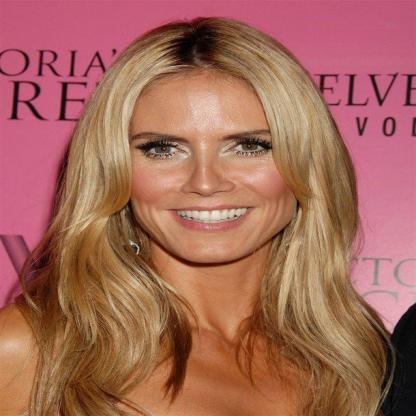long-hair: (10, 264, 388, 326)
